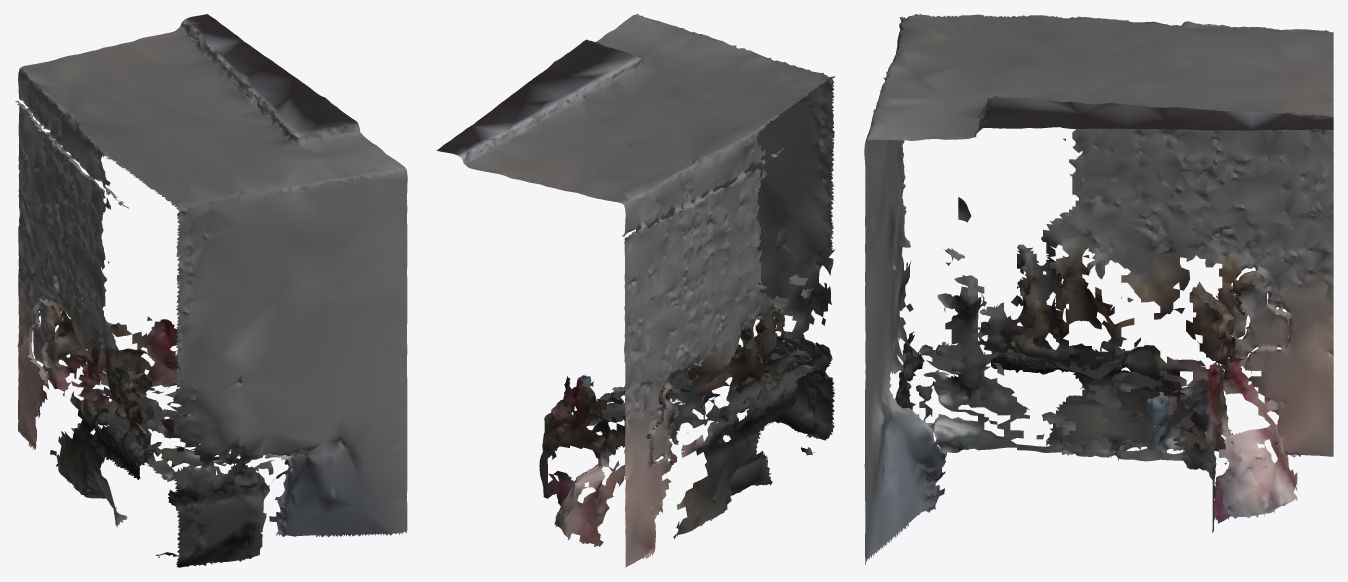
The model's file is medium.glb.
3 views of the same model, side by side, from view 1: azimuth 30°, elevation 25°; view 2: azimuth 150°, elevation 25°; view 3: azimuth 270°, elevation 25° (orthographic). The views are drawn at different scales.
Bounding box in the file's own units: 0.7989 × 1.32 × 1.28.
